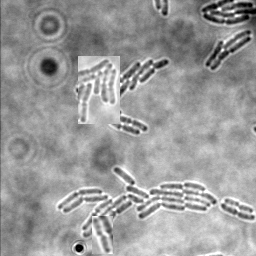Dividing: (92, 216, 113, 254), (219, 204, 255, 222), (223, 199, 253, 215)
Microcolony: (57, 167, 216, 238), (75, 59, 169, 136), (78, 56, 120, 124), (204, 30, 251, 72), (200, 1, 255, 26)
